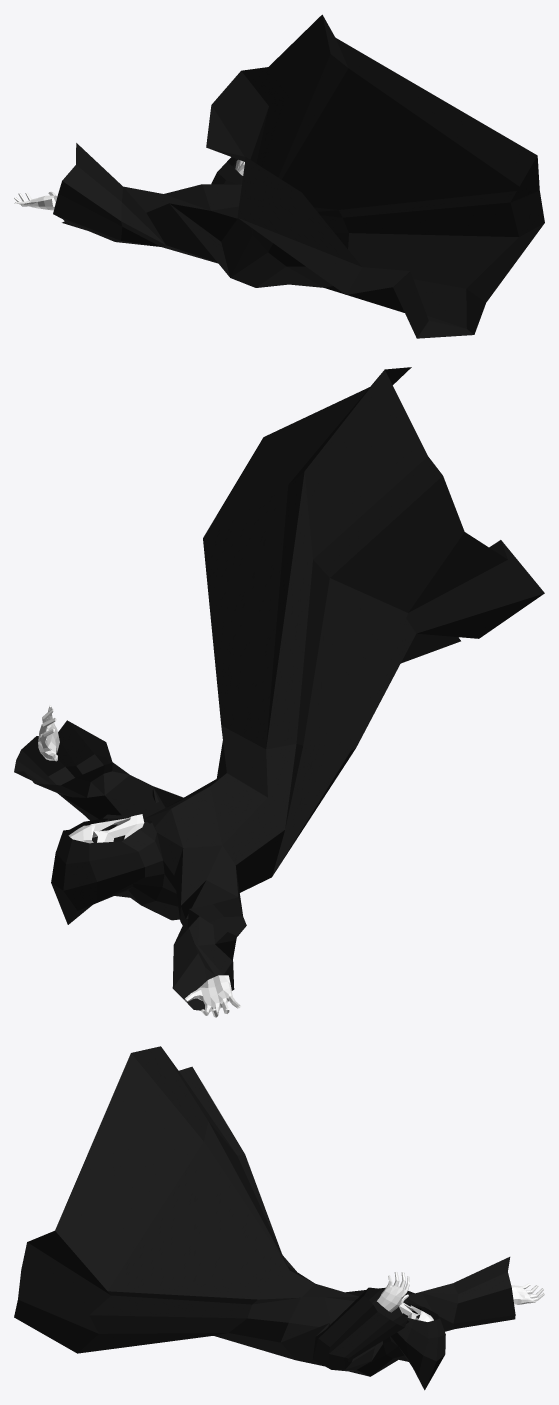
File: ReaperDead(76).obj
3 renders of one model, top to bottom at view 1: azimuth 30°, elevation 25°; view 2: azimuth 150°, elevation 25°; view 3: azimuth 270°, elevation 25°, orthographic. The views are drawn at different scales.
Visible parts, largest first — view 1: Plane003; view 2: Plane003; view 3: Plane003.
Part boxes in pixels (bbox=[...]): Plane003: bbox=[14, 14, 544, 338]; Plane003: bbox=[14, 367, 544, 1017]; Plane003: bbox=[14, 1046, 544, 1390].
Bounding box in the file's own units: 136 × 162 × 256.
